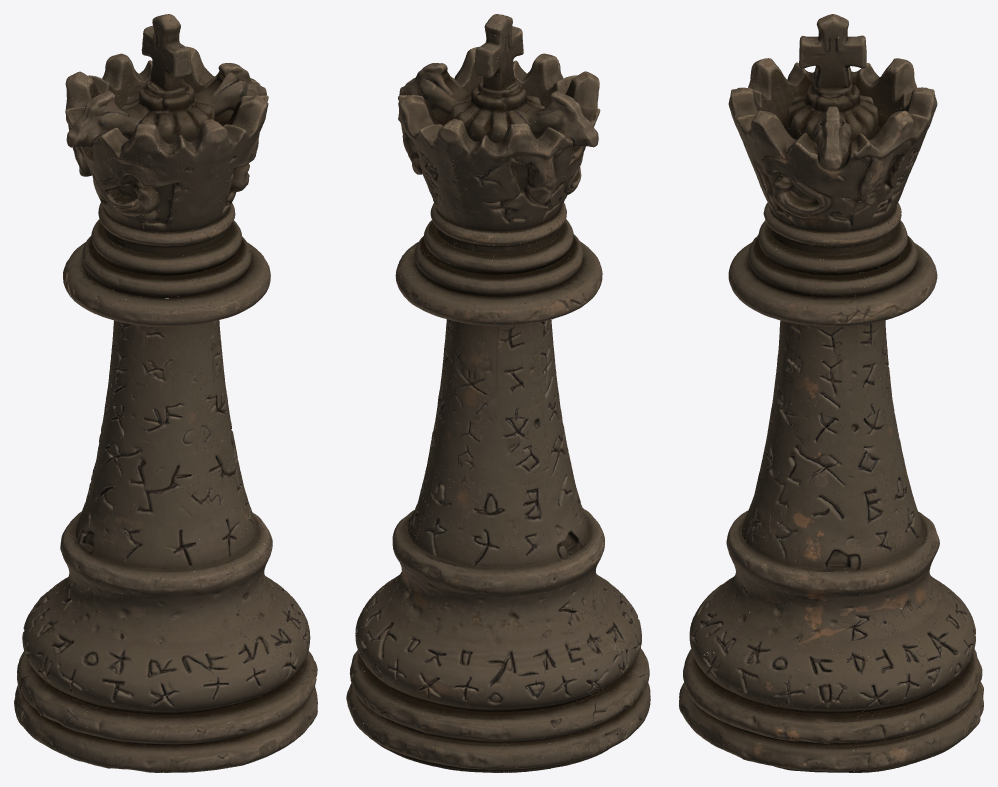
Rendered from king.glb.
3 renders of one model, left to right at view 1: azimuth 30°, elevation 25°; view 2: azimuth 150°, elevation 25°; view 3: azimuth 270°, elevation 25°, orthographic.
Visible parts, largest first — view 1: Object_9, Object_8, Object_10, Object_7, Object_6, Object_5, Object_3, Object_4, Object_2, Object_11; view 2: Object_2, Object_3, Object_4, Object_5, Object_6, Object_7, Object_8, Object_10, Object_9, Object_11; view 3: Object_10, Object_7, Object_4, Object_8, Object_5, Object_3, Object_2, Object_6, Object_9, Object_11.
Part boxes in pixels (bbox=[...]): Object_9: bbox=[32, 110, 317, 772]; Object_8: bbox=[52, 95, 317, 772]; Object_10: bbox=[32, 14, 307, 761]; Object_7: bbox=[67, 19, 317, 725]; Object_6: bbox=[18, 14, 286, 769]; Object_5: bbox=[15, 14, 278, 737]; Object_3: bbox=[14, 46, 282, 715]; Object_4: bbox=[17, 47, 290, 716]; Object_2: bbox=[14, 53, 284, 736]; Object_11: bbox=[49, 15, 289, 662]; Object_2: bbox=[346, 119, 623, 772]; Object_3: bbox=[346, 95, 608, 772]; Object_4: bbox=[349, 78, 625, 767]; Object_5: bbox=[349, 14, 628, 759]; Object_6: bbox=[350, 14, 650, 760]; Object_7: bbox=[348, 15, 604, 762]; Object_8: bbox=[377, 47, 649, 703]; Object_10: bbox=[386, 14, 648, 738]; Object_9: bbox=[379, 53, 650, 737]; Object_11: bbox=[385, 16, 629, 649]; Object_10: bbox=[731, 14, 931, 771]; Object_7: bbox=[689, 15, 982, 772]; Object_4: bbox=[728, 58, 950, 768]; Object_8: bbox=[679, 61, 935, 771]; Object_5: bbox=[731, 14, 965, 760]; Object_3: bbox=[726, 58, 982, 772]; Object_2: bbox=[827, 66, 983, 772]; Object_6: bbox=[729, 14, 936, 772]; Object_9: bbox=[679, 58, 860, 772]; Object_11: bbox=[804, 19, 931, 742].
Bounding box in the file's own units: 0.3937 × 1 × 0.3938.
1 material, 1 textured.
